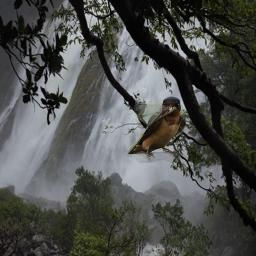Swallow: (127, 96, 185, 163)
